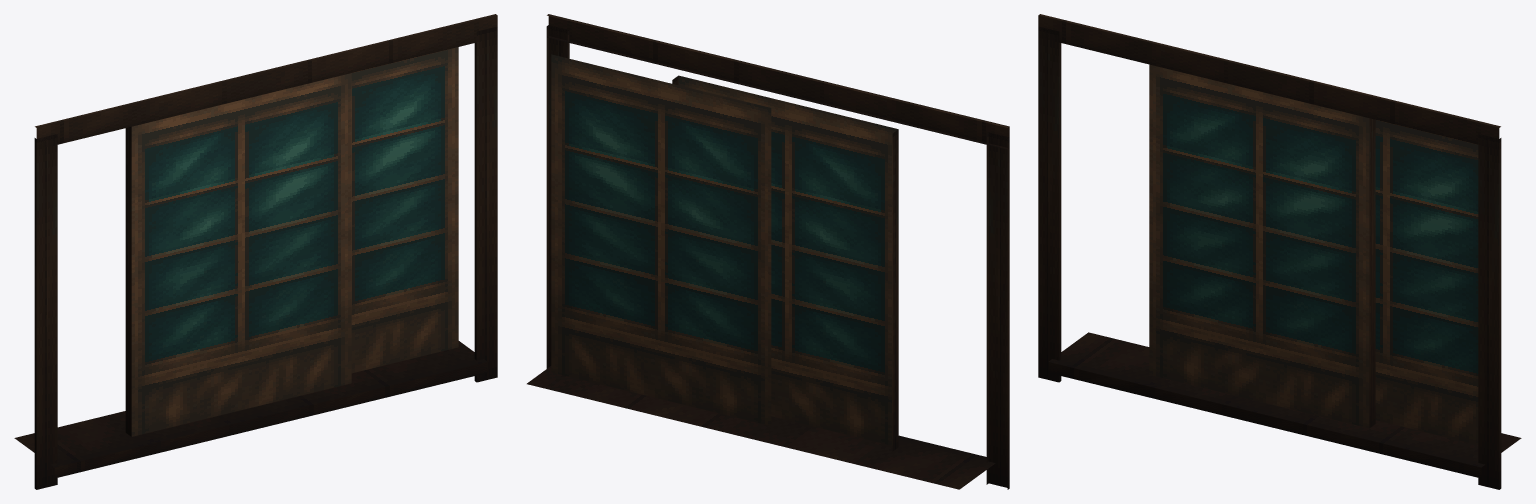
The model's file is prop_sash-12-9-2.glb.
The picture shows the model from 3 angles, left to right: view 1: azimuth 30°, elevation 25°; view 2: azimuth 150°, elevation 25°; view 3: azimuth 330°, elevation 25°; orthographic projection.
Visible parts, largest first — view 1: prop_sash-12-9-2; view 2: prop_sash-12-9-2; view 3: prop_sash-12-9-2.
Boxes of the visible parts, left/top/right/bottom form: prop_sash-12-9-2: left=14, top=14, right=497, bottom=489; prop_sash-12-9-2: left=527, top=14, right=1009, bottom=489; prop_sash-12-9-2: left=1038, top=14, right=1521, bottom=489.
Bounding box in the file's own units: 1.32 × 0.99 × 0.2.
2 materials, 2 textured.
